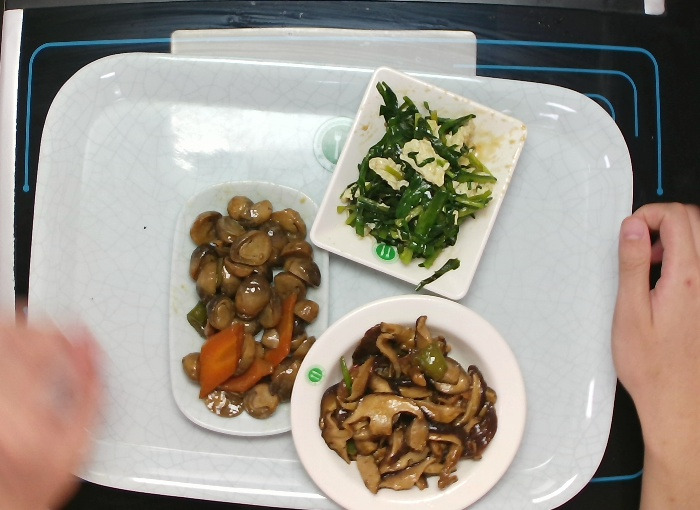WCQzf-Bai_Se_Si_Fang_Die: (310, 58, 530, 304)
WCQzf-Kuan_Bian_Yuan_Die: (286, 286, 534, 509)
WCQzf-Tuo_Yuan_Pan: (156, 176, 333, 444)
